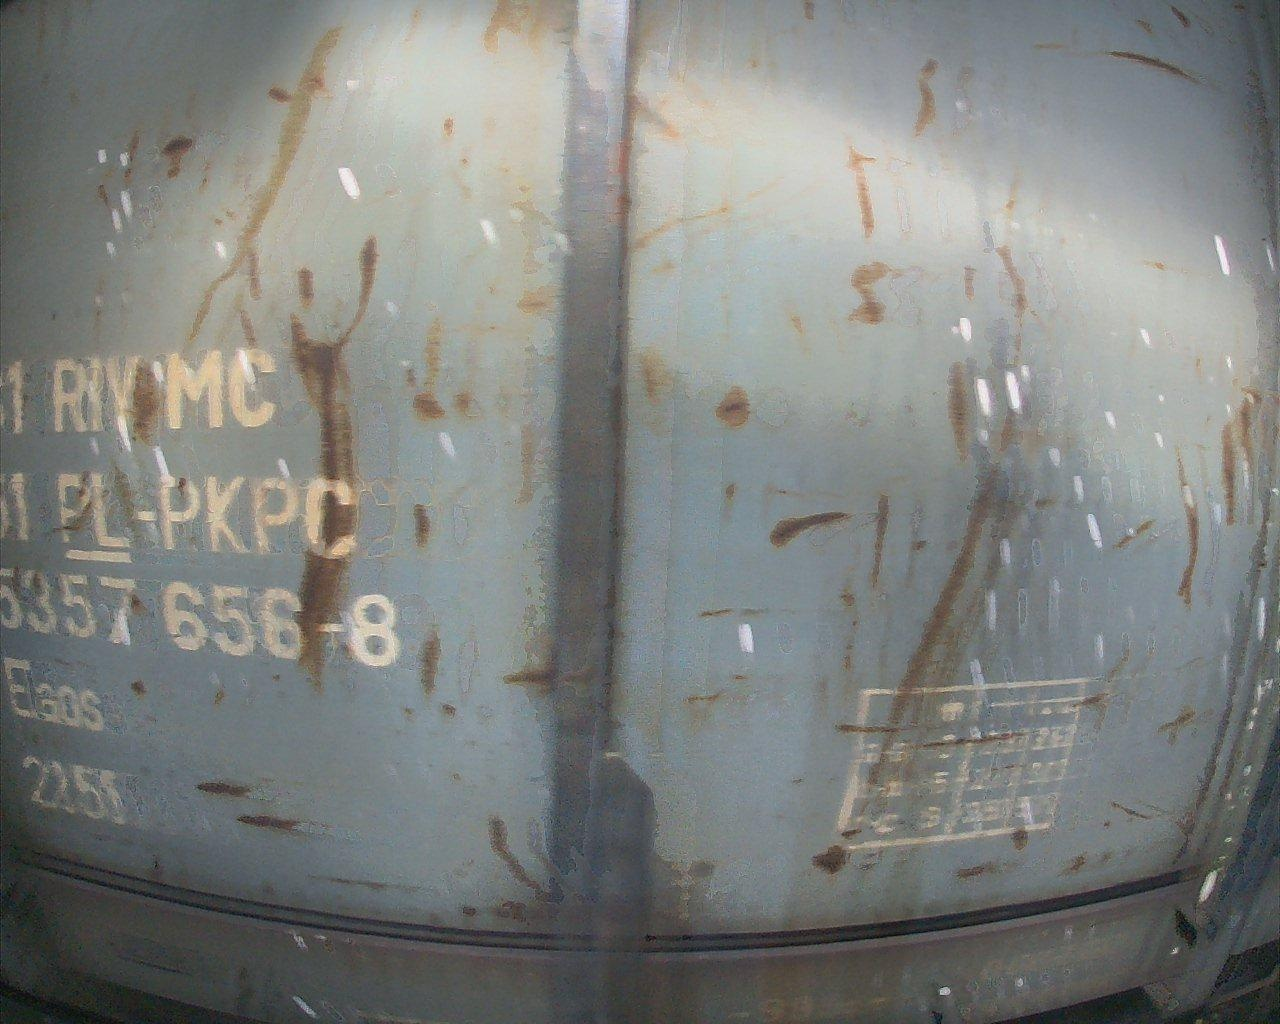UIC: (1, 342, 409, 828)
